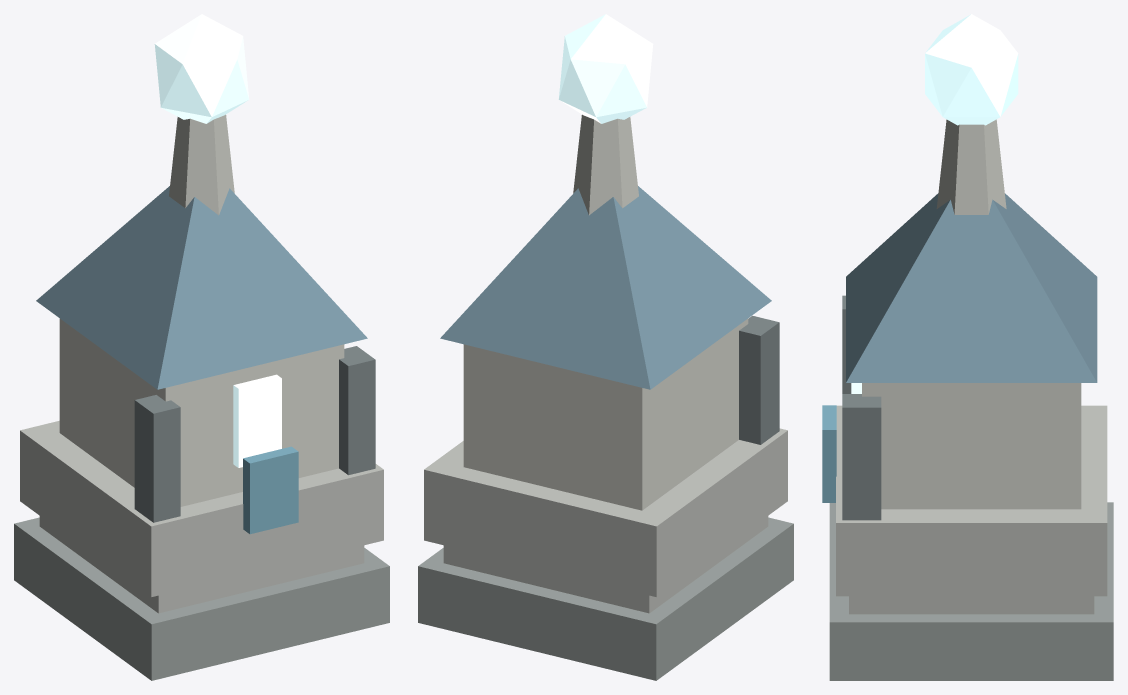
File: human_frost_t3.glb
The picture shows the model from 3 angles, left to right: view 1: azimuth 30°, elevation 25°; view 2: azimuth 150°, elevation 25°; view 3: azimuth 270°, elevation 25°; orthographic projection. The views are drawn at different scales.
Parts seen in each view (by area): view 1: human_frost_t3_MAT_roof, human_frost_t3_MAT_stone, human_frost_t3_MAT_light, human_frost_t3_MAT_dark, human_frost_t3_MAT_frost, human_frost_t3_MAT_iron, human_frost_t3_MAT_blue; view 2: human_frost_t3_MAT_light, human_frost_t3_MAT_roof, human_frost_t3_MAT_stone, human_frost_t3_MAT_dark, human_frost_t3_MAT_frost, human_frost_t3_MAT_iron; view 3: human_frost_t3_MAT_roof, human_frost_t3_MAT_stone, human_frost_t3_MAT_light, human_frost_t3_MAT_dark, human_frost_t3_MAT_frost, human_frost_t3_MAT_iron, human_frost_t3_MAT_blue.
Part boxes in pixels (<box>): human_frost_t3_MAT_roof: <box>36,186,367,389</box>; human_frost_t3_MAT_stone: <box>20,420,383,613</box>; human_frost_t3_MAT_light: <box>59,114,344,506</box>; human_frost_t3_MAT_dark: <box>14,517,389,680</box>; human_frost_t3_MAT_frost: <box>154,14,281,467</box>; human_frost_t3_MAT_iron: <box>134,346,375,522</box>; human_frost_t3_MAT_blue: <box>243,446,298,534</box>; human_frost_t3_MAT_light: <box>463,114,748,510</box>; human_frost_t3_MAT_roof: <box>440,186,771,389</box>; human_frost_t3_MAT_stone: <box>424,428,787,613</box>; human_frost_t3_MAT_dark: <box>418,517,793,680</box>; human_frost_t3_MAT_frost: <box>558,14,653,123</box>; human_frost_t3_MAT_iron: <box>739,315,779,444</box>; human_frost_t3_MAT_roof: <box>846,193,1097,382</box>; human_frost_t3_MAT_stone: <box>836,405,1107,614</box>; human_frost_t3_MAT_light: <box>862,119,1081,509</box>; human_frost_t3_MAT_dark: <box>829,502,1113,680</box>; human_frost_t3_MAT_frost: <box>851,14,1018,393</box>; human_frost_t3_MAT_iron: <box>842,295,881,520</box>; human_frost_t3_MAT_blue: <box>822,405,836,502</box>.
Size of the model in its own units: 0.88 by 2.07 by 0.9025.
